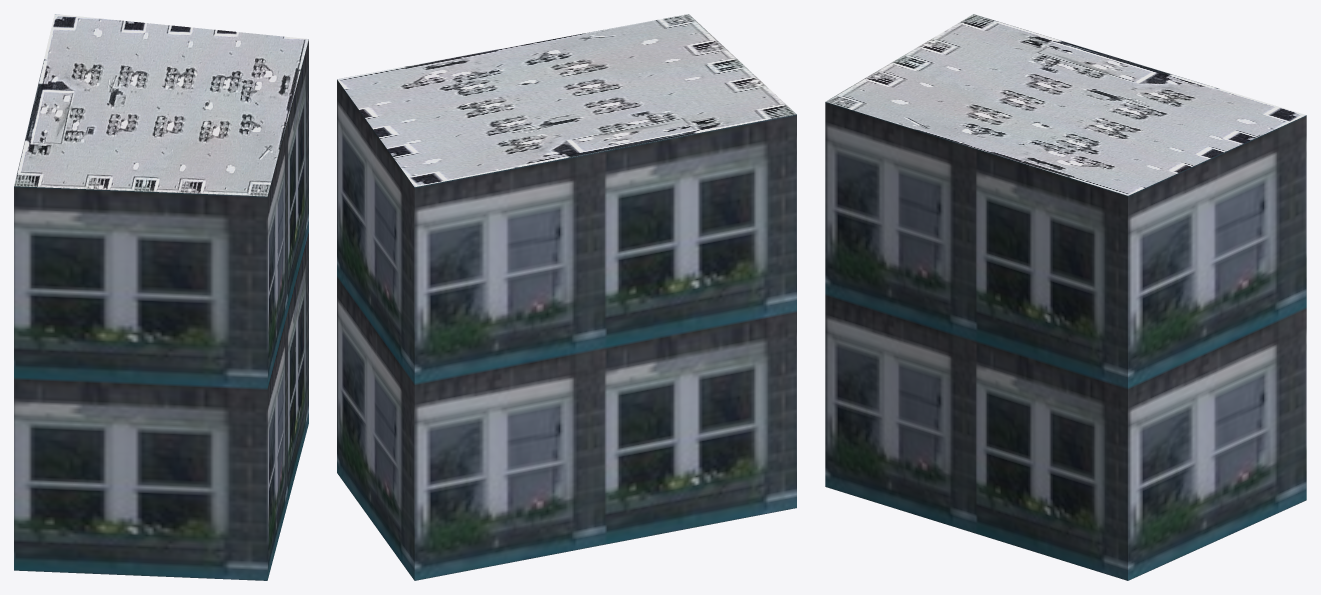
The model's file is ResTex__4498.fbx.
3 renders of one model, left to right at view 1: azimuth 30°, elevation 25°; view 2: azimuth 150°, elevation 25°; view 3: azimuth 270°, elevation 25°, orthographic. The views are drawn at different scales.
Visible parts, largest first — view 1: CityEngineMaterial_11_m, CityEngineMaterial_4_m; view 2: CityEngineMaterial_11_m, CityEngineMaterial_4_m; view 3: CityEngineMaterial_11_m, CityEngineMaterial_4_m.
Boxes of the visible parts, box(x1,y1,x2,y2) form: CityEngineMaterial_11_m: box(14, 40, 308, 580); CityEngineMaterial_4_m: box(14, 14, 308, 196); CityEngineMaterial_11_m: box(337, 79, 796, 580); CityEngineMaterial_4_m: box(337, 14, 796, 186); CityEngineMaterial_11_m: box(825, 102, 1306, 580); CityEngineMaterial_4_m: box(825, 14, 1306, 195).
Bounding box in the file's own units: 6.08 × 6 × 6.8.
Materials: 2 (2 with a texture image).
